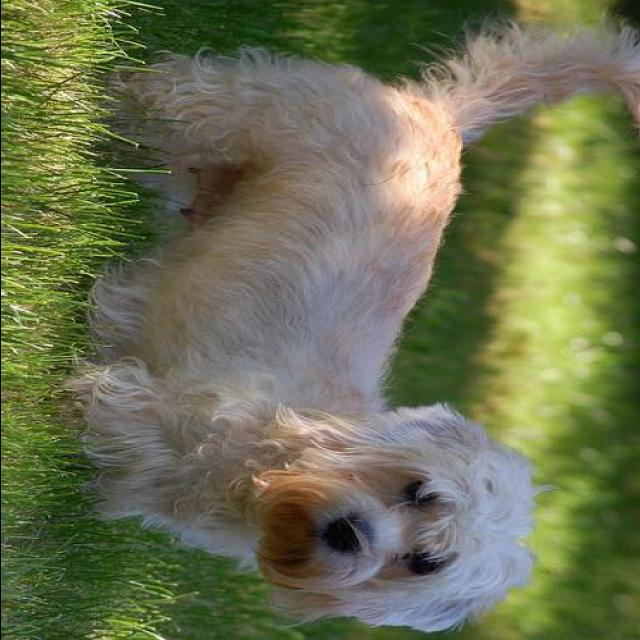dandie_dinmont: (73, 19, 640, 631)
